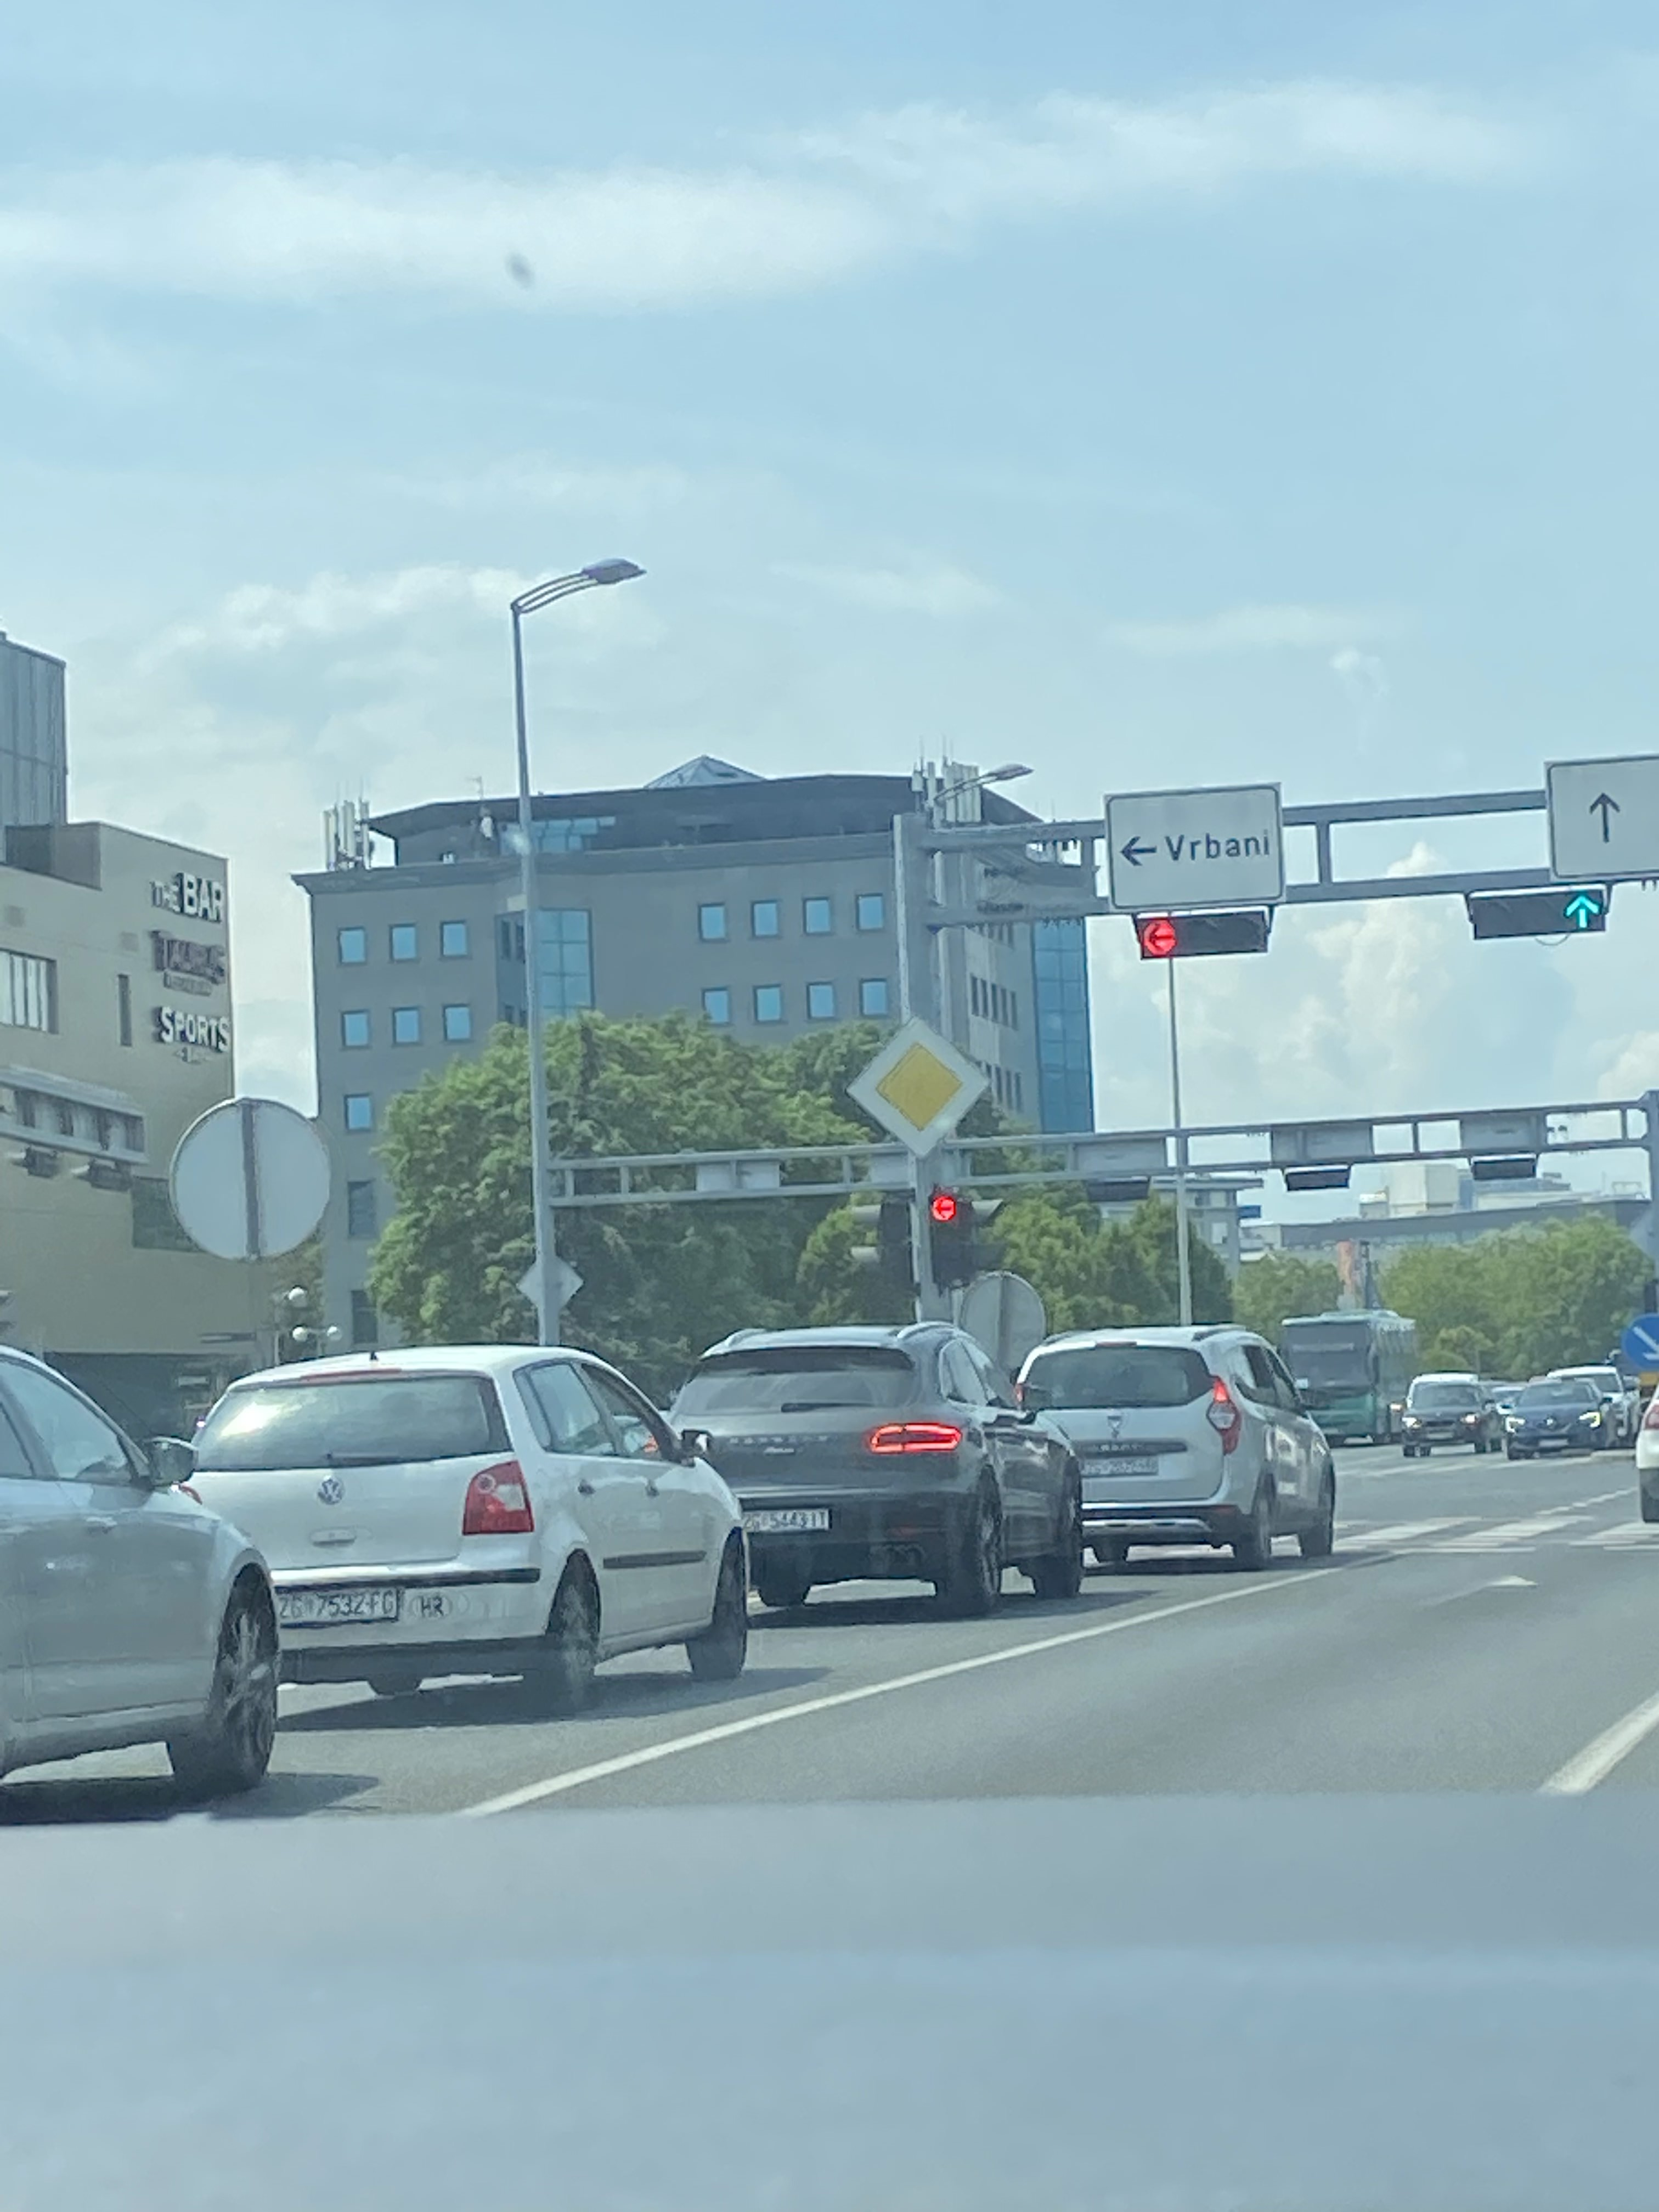Cesta s prednošću prolaska: (845, 1017, 992, 1160)
